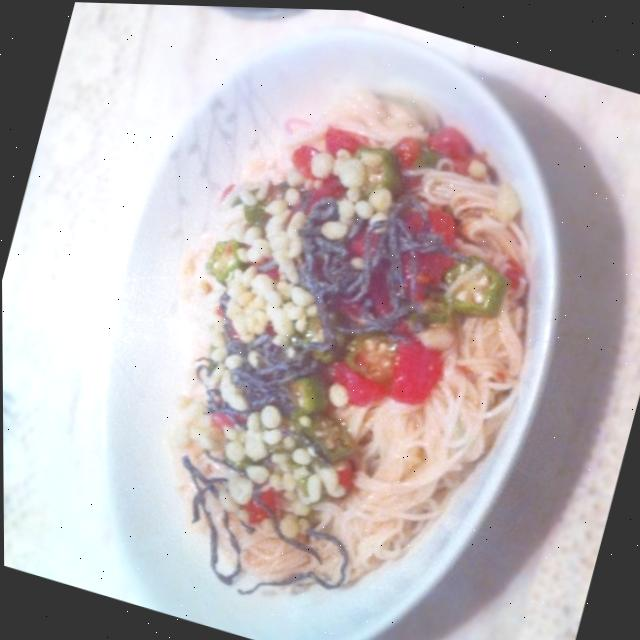面条主食: (53, 2, 606, 640)
